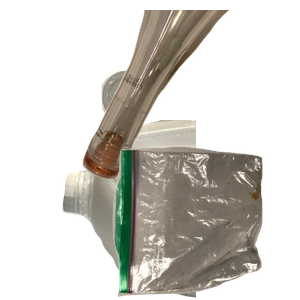glass: (80, 10, 300, 182)
metal: (99, 68, 244, 184)
plastic: (60, 120, 300, 300)
trash: (110, 144, 300, 300)
